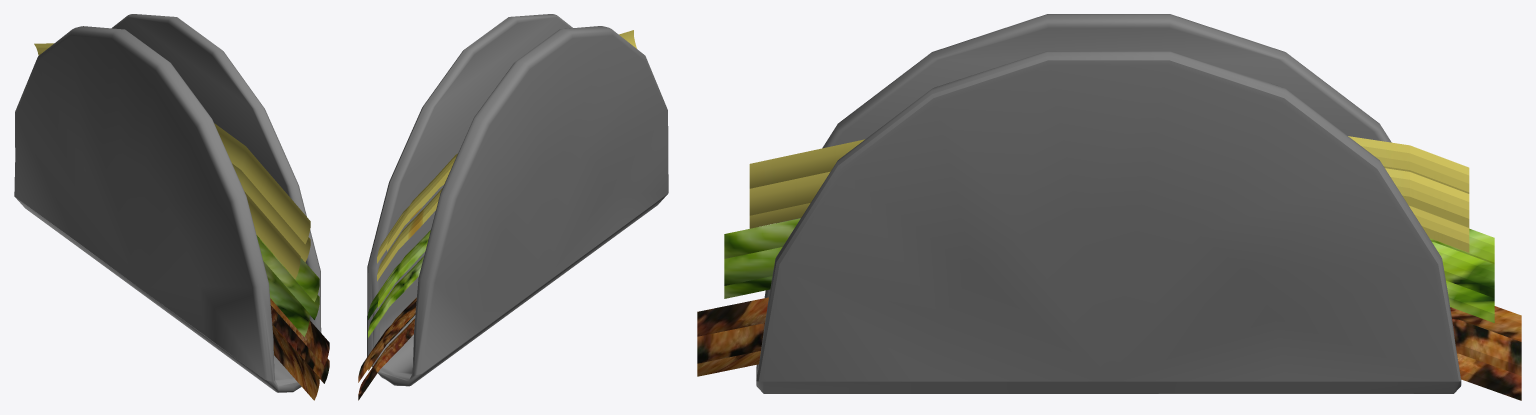
Rendered from Taco_m_fyll.FBX.
The picture shows the model from 3 angles, left to right: view 1: azimuth 30°, elevation 25°; view 2: azimuth 150°, elevation 25°; view 3: azimuth 270°, elevation 25°; orthographic projection. The views are drawn at different scales.
Visible parts, largest first — view 1: Taco, ost1, kjøtt1, salat1; view 2: Taco, ost1, salat1, kjøtt1; view 3: Taco, ost1, kjøtt1, salat1.
Part boxes in pixels (left/top/right/bottom): Taco: left=14, top=14, right=321, bottom=392; ost1: left=34, top=43, right=310, bottom=279; kjøtt1: left=270, top=298, right=329, bottom=400; salat1: left=256, top=235, right=319, bottom=336; Taco: left=367, top=14, right=668, bottom=386; ost1: left=377, top=30, right=636, bottom=281; salat1: left=368, top=230, right=430, bottom=337; kjøtt1: left=358, top=297, right=416, bottom=400; Taco: left=756, top=14, right=1461, bottom=393; ost1: left=749, top=136, right=1469, bottom=252; kjøtt1: left=697, top=297, right=1521, bottom=400; salat1: left=724, top=218, right=1494, bottom=322.
Size of the model in its own units: 21.45 by 78.3 by 163.
4 materials, 3 textured.
